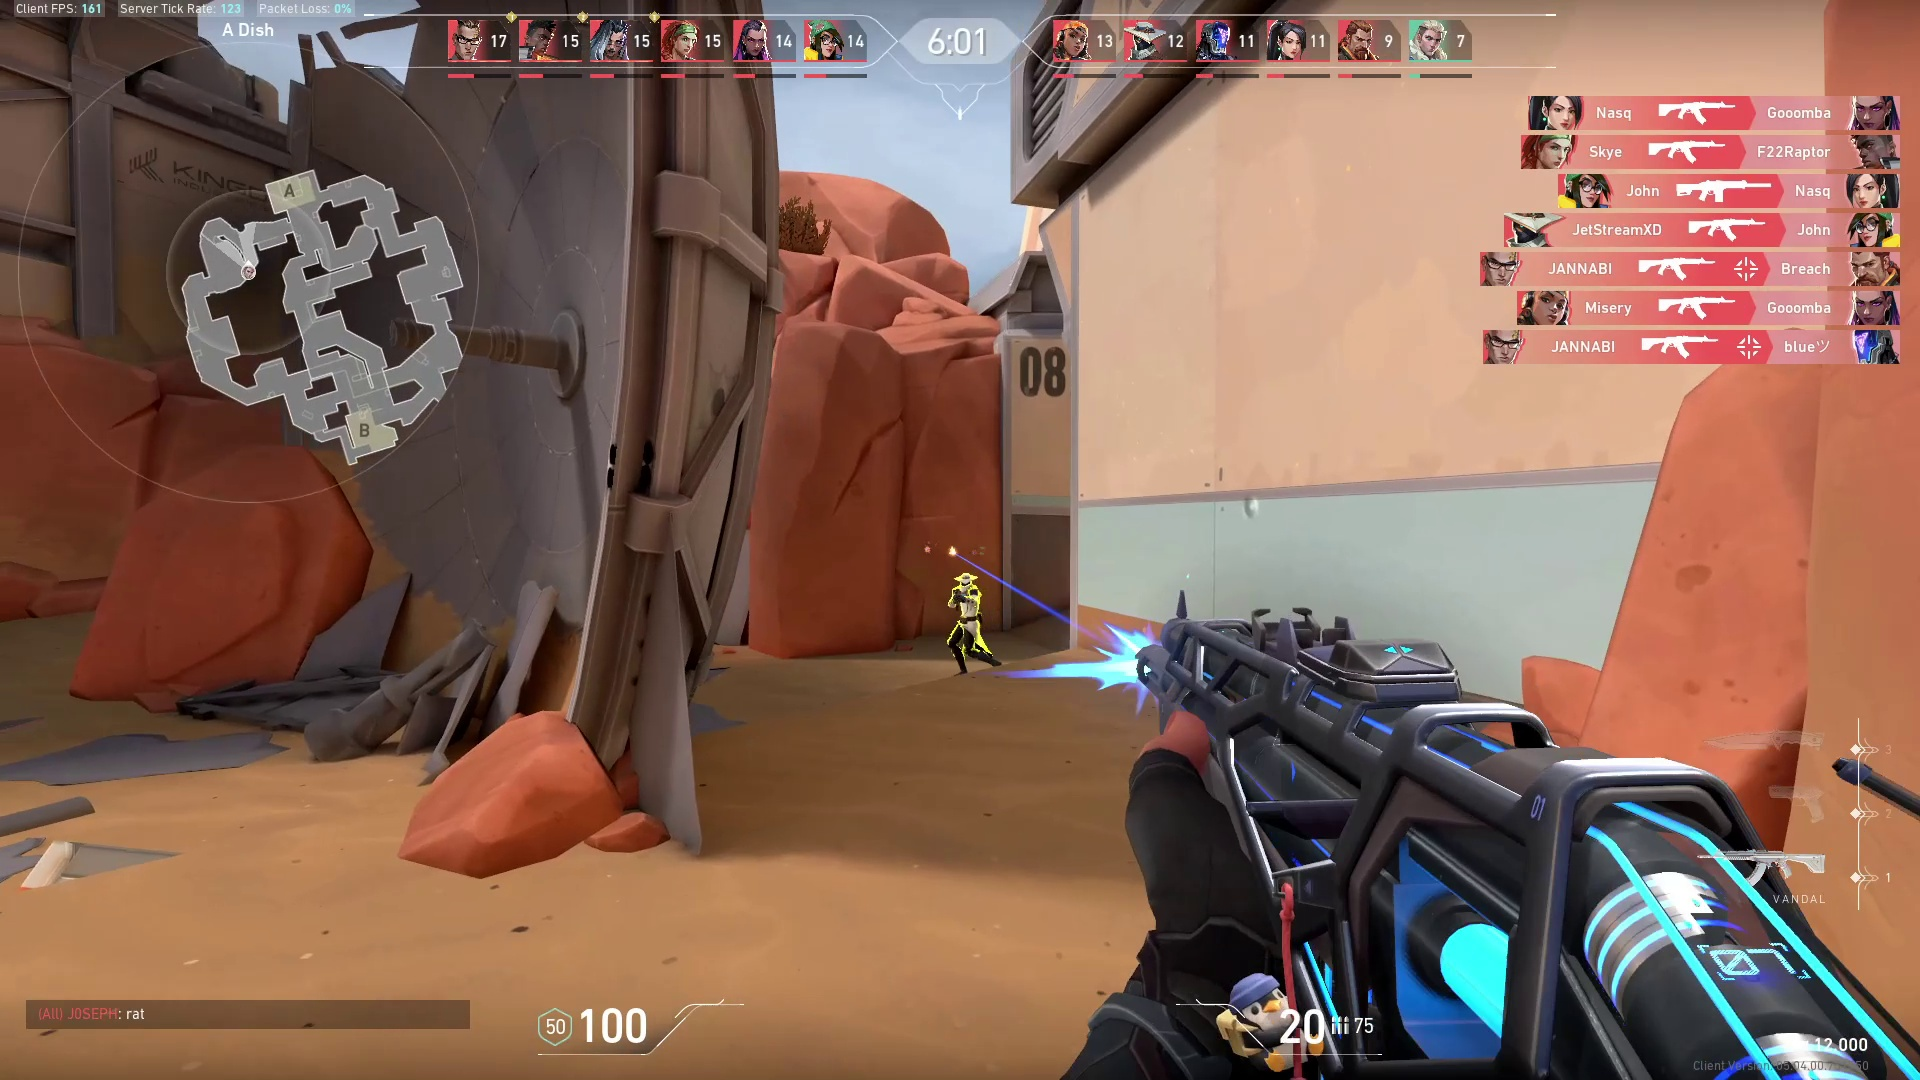enemy_body: (943, 585, 1004, 676)
enemy_head: (949, 567, 982, 591)
